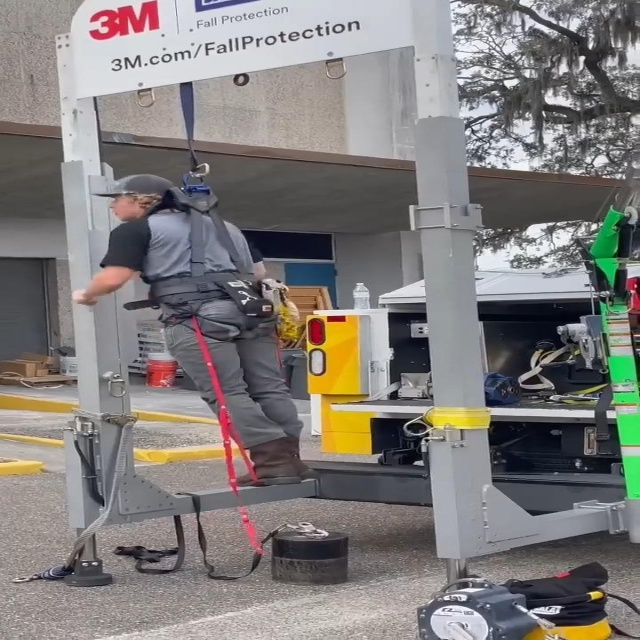Arnes_seguridad: (107, 171, 300, 345)
